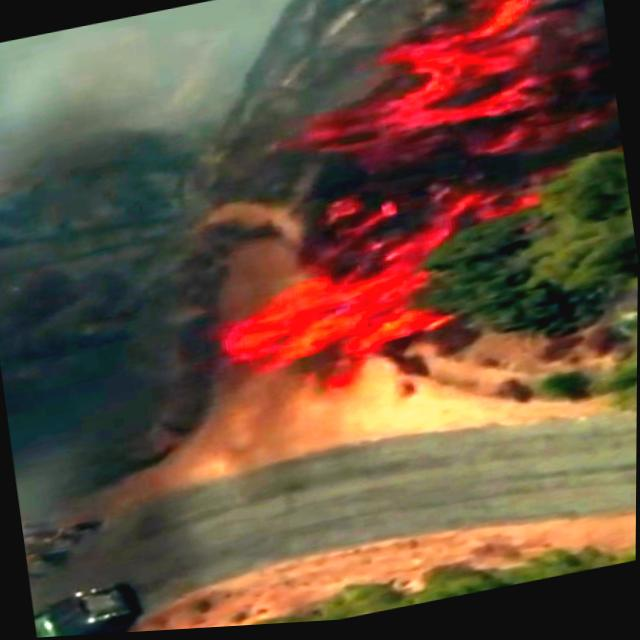fire: (357, 0, 574, 136), (248, 274, 415, 382)
smoke: (0, 41, 15, 170)
